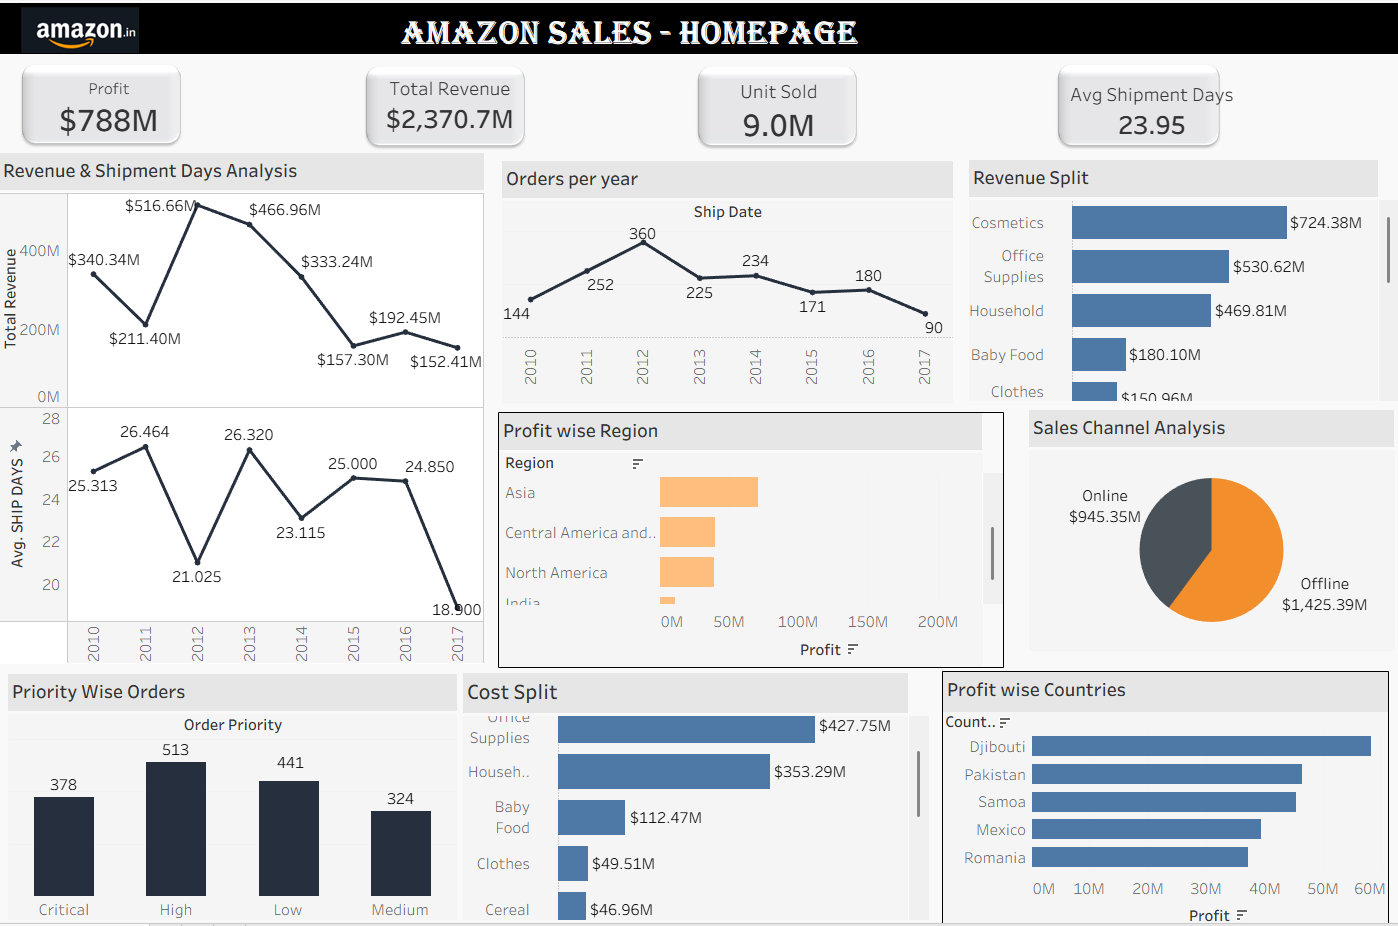

The page's visual inventory and layout, read from the dashboard file:
{"tool":"tableau","page":{"name":"Welcome Page","canvas":[1000,1000],"units":"permille","ordinal":3},"visuals":[{"type":"blank","box":[0,4.3,843.1,73.8]},{"type":"image","param":"Image/Amazon logo.png","box":[15.1,6.5,111,68.4]},{"type":"text","box":[236.6,79.3,345.2,57.6]},{"type":"dashboard-object","box":[720,84.7,91.1,52.1]},{"type":"image","param":"Image/Back Of KPIS 1.png","box":[12.7,172.6,158.1,135.7]},{"type":"image","param":"Image/Back Of KPIS.png","box":[193.1,172.6,158.1,135.7]},{"type":"image","param":"Image/Back Of KPIS.png","box":[425.5,174.8,158.1,135.7]},{"type":"image","param":"Image/Back Of KPIS.png","box":[663.9,177,158.1,135.7]},{"type":"worksheet","title":"Shipment Days","mark":"Automatic","box":[430.3,194.3,141.2,106.4]},{"type":"worksheet","title":"Revenue","mark":"Automatic","box":[208.8,197.6,129.8,110.8]},{"type":"worksheet","title":"Profit","mark":"Automatic","box":[44.1,200.9,119.5,110.8]},{"type":"worksheet","title":"Unit Sold","mark":"Automatic","box":[709.7,205.2,109.2,96.6]},{"type":"worksheet","title":"Profit wise Region","mark":"Automatic","rows":["Region"],"cols":["Calculation_0873336720785408"],"box":[7.9,329,359.7,668.8]},{"type":"worksheet","title":"Profit wise Countries","mark":"Automatic","box":[383.8,329,433.3,666.7]}]}

Visuals, with their boxes on the dashboard's canvas, which has no fixed pixel size, in thousandths of its width and height (x1, y1, x2, y2). These are canvas units, not pixel positions in the 1398x926 screenshot, which may show the page scaled, cropped or inside an application window:
blank: locate(0, 4, 843, 78)
image: locate(15, 6, 126, 75)
text: locate(237, 79, 582, 137)
dashboard-object: locate(720, 85, 811, 137)
image: locate(13, 173, 171, 308)
image: locate(193, 173, 351, 308)
image: locate(426, 175, 584, 310)
image: locate(664, 177, 822, 313)
"Shipment Days" worksheet: locate(430, 194, 572, 301)
"Revenue" worksheet: locate(209, 198, 339, 308)
"Profit" worksheet: locate(44, 201, 164, 312)
"Unit Sold" worksheet: locate(710, 205, 819, 302)
"Profit wise Region" worksheet: locate(8, 329, 368, 998)
"Profit wise Countries" worksheet: locate(384, 329, 817, 996)
